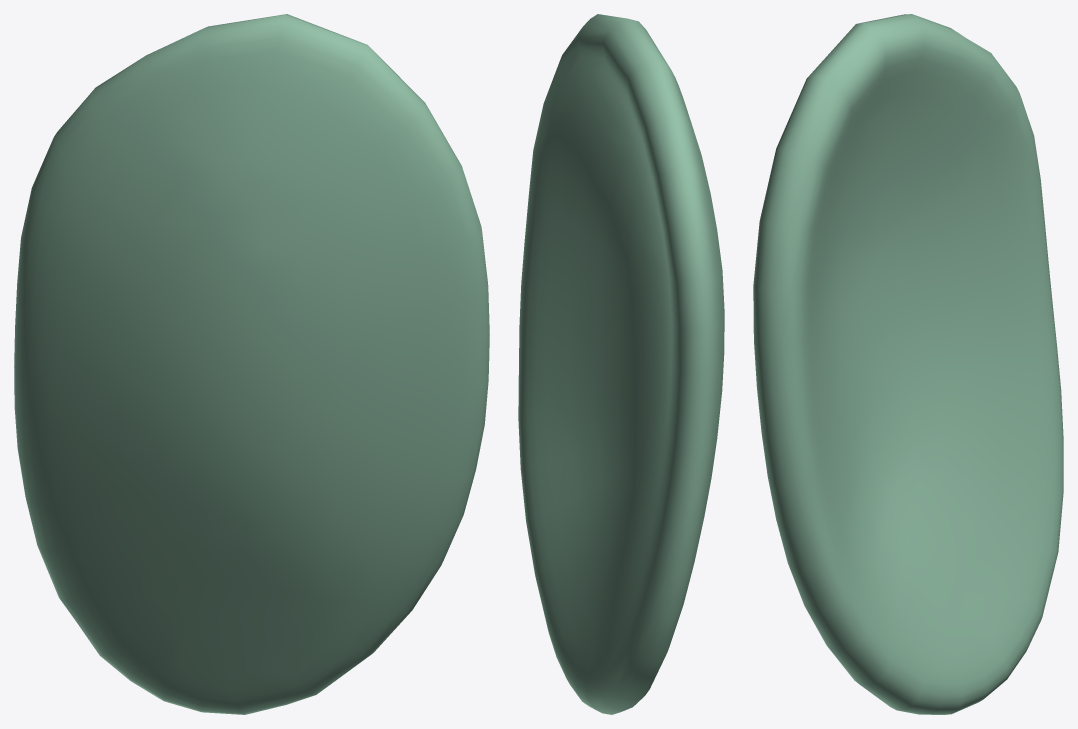
The model's file is BL3_Enamel_Diamond.001.glb.
3 renders of one model, left to right at view 1: azimuth 30°, elevation 25°; view 2: azimuth 150°, elevation 25°; view 3: azimuth 270°, elevation 25°, orthographic. The views are drawn at different scales.
Visible parts, largest first — view 1: BL3_Enamel_Diamond.001; view 2: BL3_Enamel_Diamond.001; view 3: BL3_Enamel_Diamond.001.
Boxes of the visible parts, x1,y1,x2,y2 form: BL3_Enamel_Diamond.001: [14, 14, 489, 714]; BL3_Enamel_Diamond.001: [518, 14, 724, 714]; BL3_Enamel_Diamond.001: [753, 14, 1063, 714].
Size of the model in its own units: 0.4787 by 0.9857 by 0.4015.
